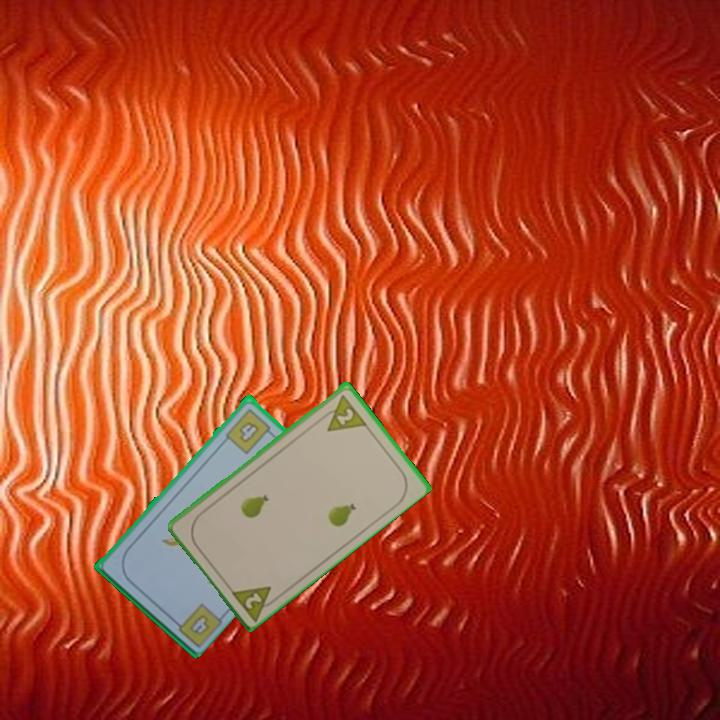2p: (316, 390, 369, 434), (227, 582, 283, 623)
4b: (222, 404, 276, 456), (168, 599, 224, 649)
